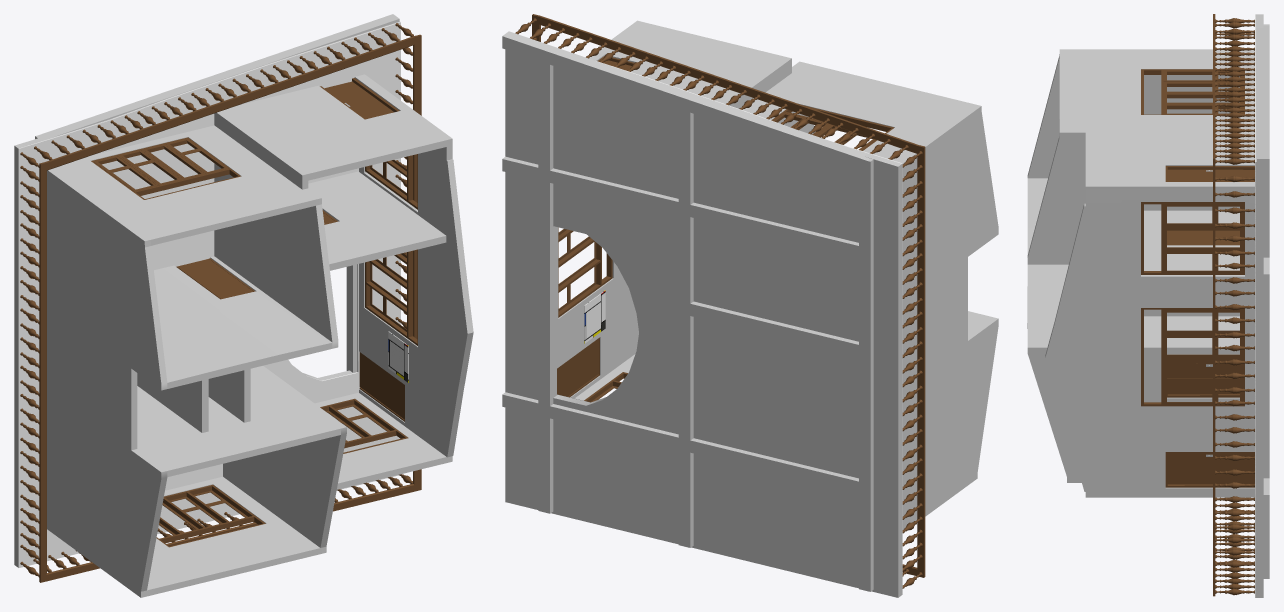
The picture shows the model from 3 angles, left to right: view 1: azimuth 30°, elevation 25°; view 2: azimuth 150°, elevation 25°; view 3: azimuth 270°, elevation 25°; orthographic projection. The views are drawn at different scales.
Parts seen in each view (by area): view 1: WALL, polySurface26, polySurface39, polySurface25, pCube50, pasted__pCube98, pasted__pasted__polySurface6, pasted__pCube105, pasted__pasted__polySurface10, pCube64, pasted__pCube111, pasted__pasted__polySurface9 (+3 smaller); view 2: polySurface25, WALL, pCube64, polySurface39, pCube50, pCube63, pCube65, pCube49, pCube47, pCube48, pasted__pCube98, pCube115 (+3 smaller); view 3: WALL, polySurface25, pCube64, pasted__pCube98, pCube50, polySurface39, pasted__pCube102, pasted__pasted__polySurface9, pasted__pCube108, pasted__pCube111, pasted__pasted__polySurface8, pasted__pasted__pCube130 (+13 smaller).
Part boxes in pixels (x1,y1,x2,y2): WALL: [47, 74, 473, 597]; polySurface26: [18, 22, 400, 567]; polySurface39: [39, 34, 421, 582]; polySurface25: [14, 21, 399, 567]; pCube50: [38, 14, 399, 137]; pasted__pCube98: [359, 354, 404, 419]; pasted__pasted__polySurface6: [91, 137, 240, 199]; pasted__pCube105: [177, 259, 253, 299]; pasted__pasted__polySurface10: [156, 484, 265, 547]; pCube64: [346, 32, 364, 372]; pasted__pCube111: [324, 81, 393, 119]; pasted__pasted__polySurface9: [365, 249, 417, 345]; polySurface25: [505, 49, 902, 597]; WALL: [557, 20, 998, 529]; pCube64: [538, 61, 556, 513]; polySurface39: [532, 14, 925, 577]; pCube50: [502, 31, 870, 173]; pCube63: [678, 99, 693, 547]; pCube65: [859, 159, 873, 591]; pCube49: [502, 156, 858, 257]; pCube47: [502, 392, 858, 493]; pCube48: [679, 301, 869, 359]; pasted__pCube98: [557, 340, 598, 396]; pCube115: [584, 290, 605, 343]; WALL: [1027, 49, 1254, 497]; polySurface25: [1255, 14, 1263, 597]; pCube64: [1263, 170, 1269, 578]; pasted__pCube98: [1167, 454, 1254, 484]; pCube50: [1257, 25, 1269, 170]; polySurface39: [1213, 14, 1215, 596]; pasted__pCube102: [1167, 363, 1239, 394]; pasted__pasted__polySurface9: [1141, 308, 1244, 406]; pasted__pCube108: [1167, 230, 1239, 245]; pasted__pCube111: [1167, 169, 1254, 181]; pasted__pasted__polySurface8: [1141, 202, 1244, 274]; pasted__pasted__pCube130: [1163, 309, 1242, 333].
Bounding box in the file's own units: 0.1192 × 0.1358 × 0.0679.
10 materials, 1 textured.
